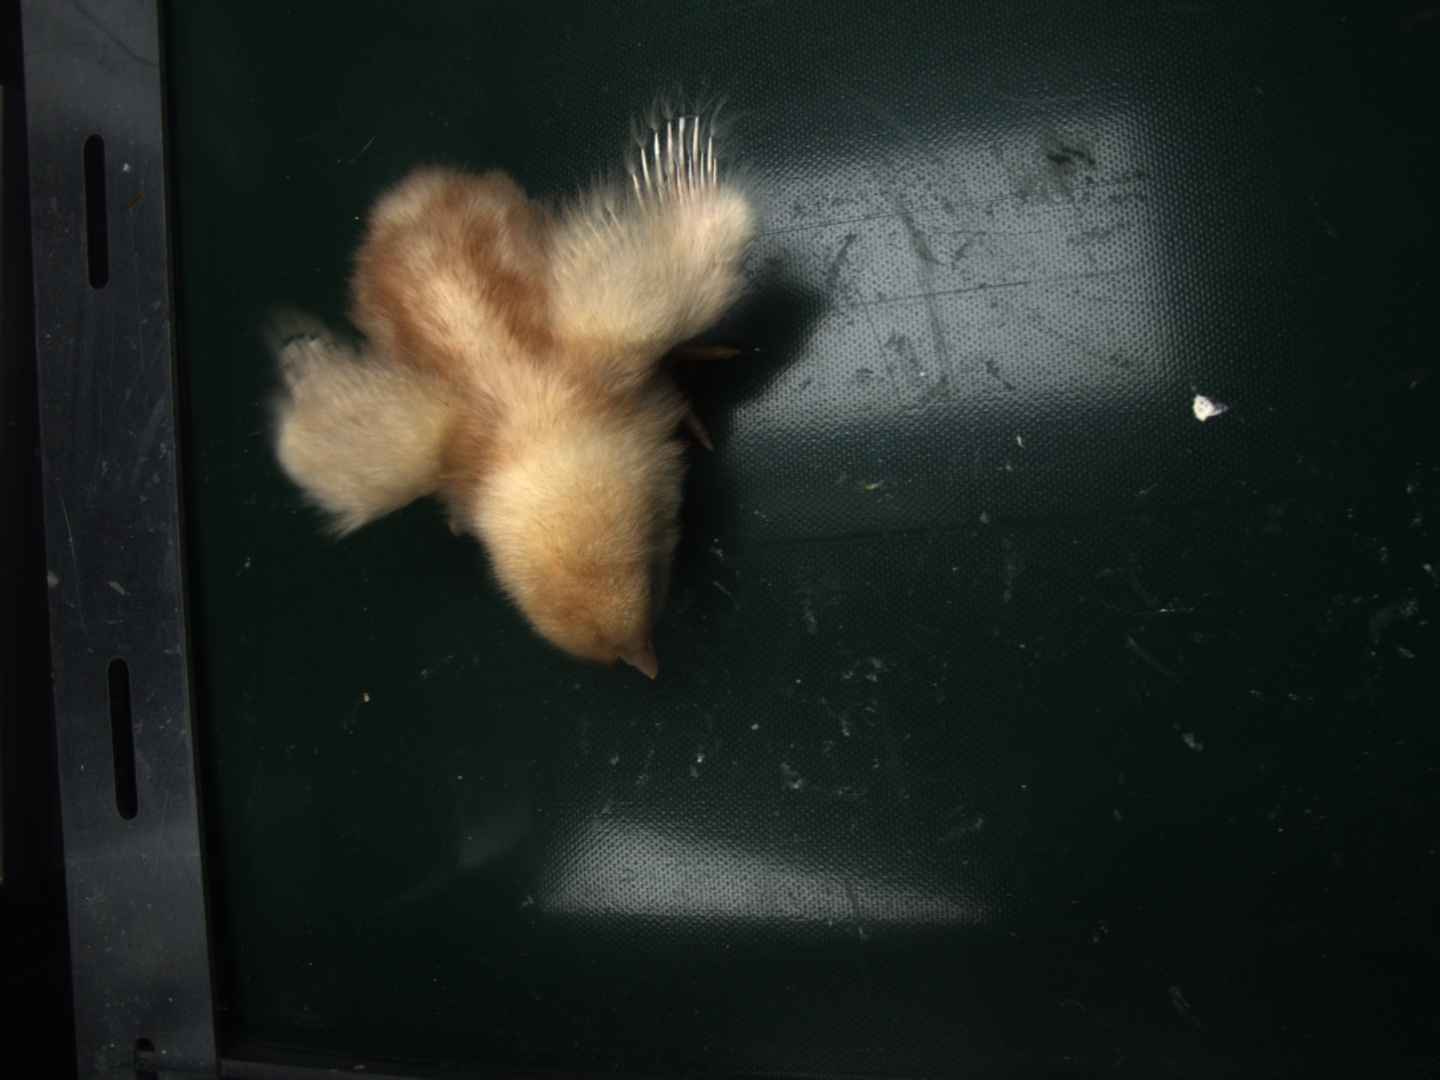female: (630, 113, 723, 211)
